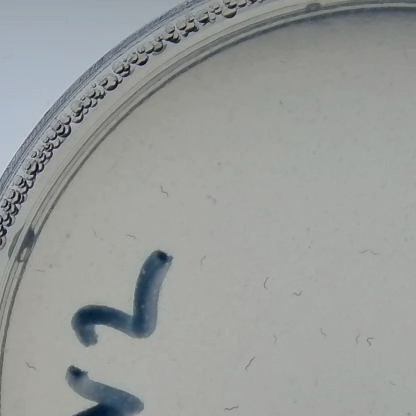worm: (30, 257, 58, 276), (351, 245, 384, 261), (240, 354, 262, 373), (313, 321, 335, 338), (268, 327, 287, 345), (224, 397, 246, 412), (259, 273, 273, 294), (24, 357, 43, 372), (194, 254, 211, 270), (362, 332, 378, 348), (199, 194, 222, 205), (351, 329, 362, 351), (123, 228, 143, 240), (293, 284, 306, 301), (158, 184, 173, 198), (88, 224, 104, 237)
